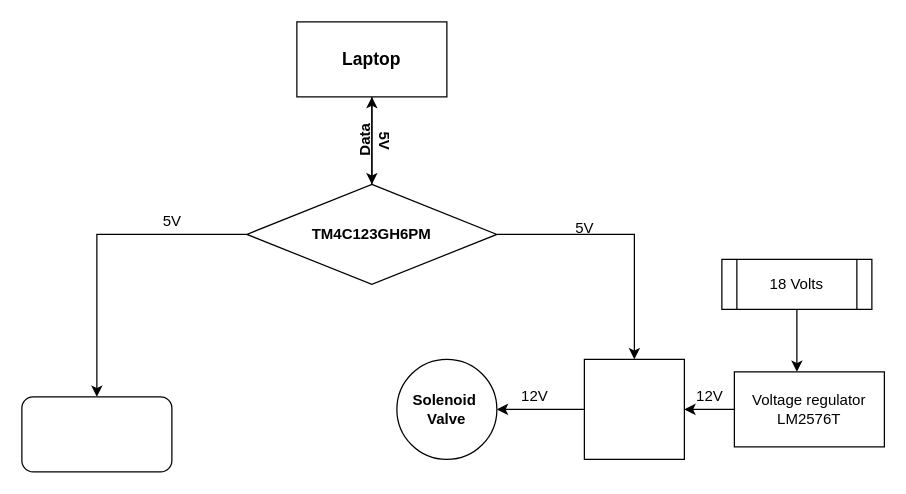
Image size: 906x494. Some labels were removed from this diagram. The shapes that lost their labels are listed below. From the top down, each one's centre as x and y in pixels, then its label:
At point 633,408: "1 Channel Relay".
At point 96,434: "Soil Moisture Sensor".
